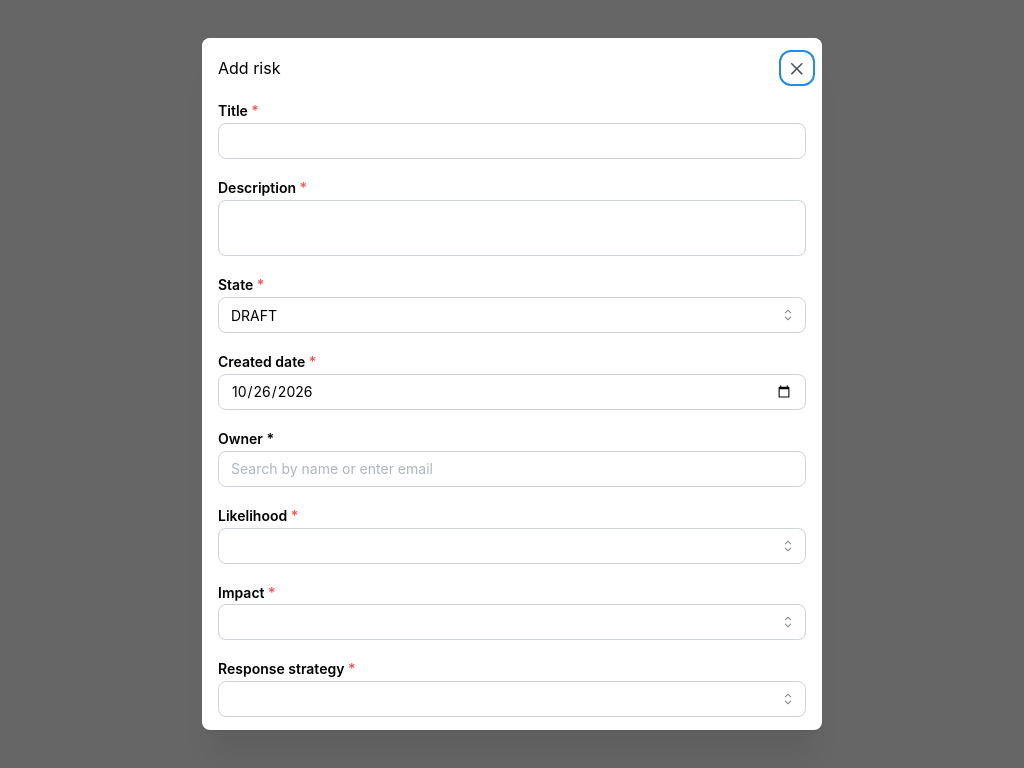
Risk Owner field — email-only mode (PM2-02) › filters user options when the user types a name
The width and height of the screenshot is (1024, 768).
Type "Alice" into the field with placeholder "Search by name or enter email". click: [512, 469]
box: [218, 451, 806, 487]
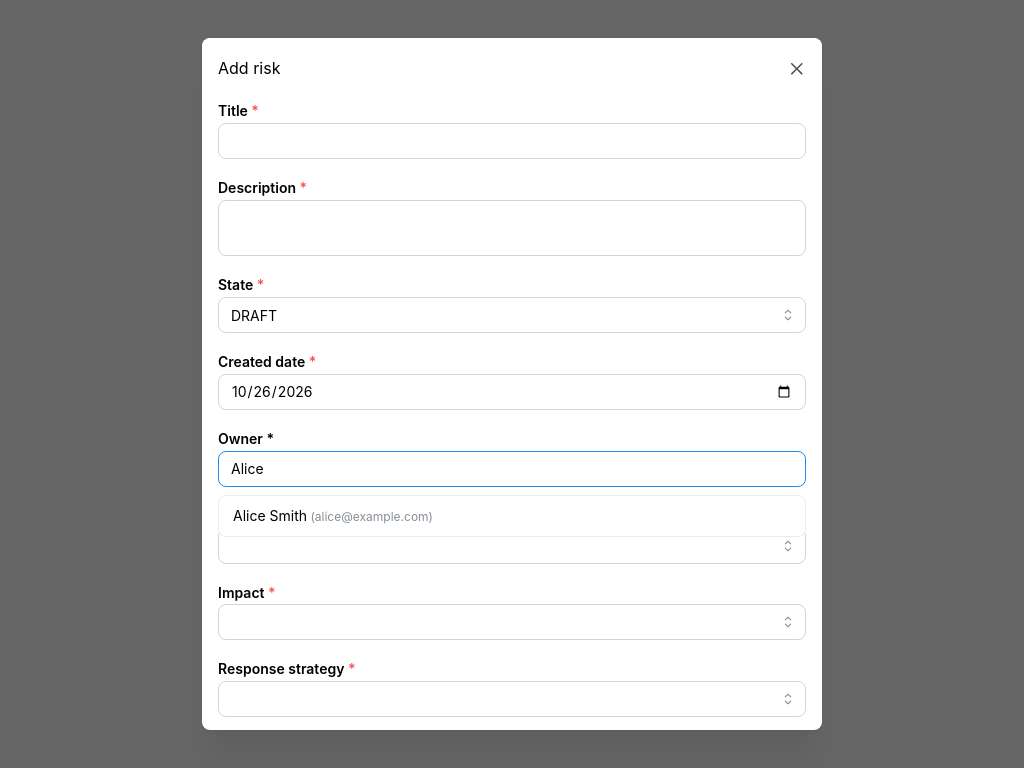
Expected: the text "Alice Smith (alice@example.com)" is shown, [233, 507, 433, 524]
